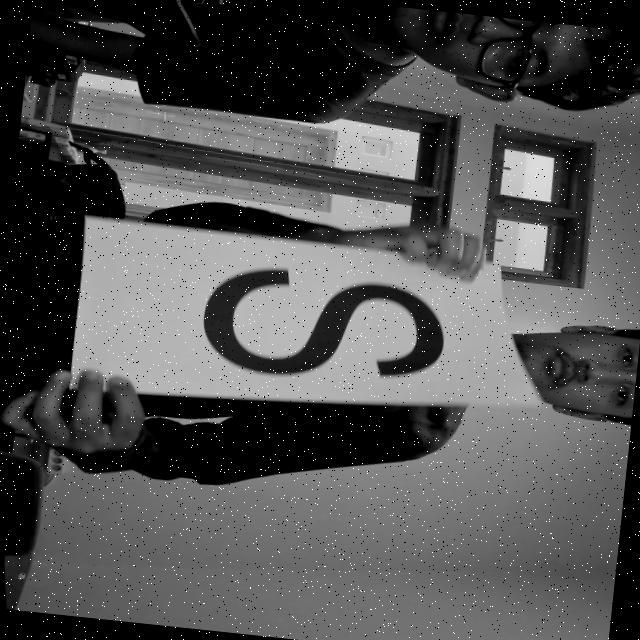s: (164, 247, 464, 407)
